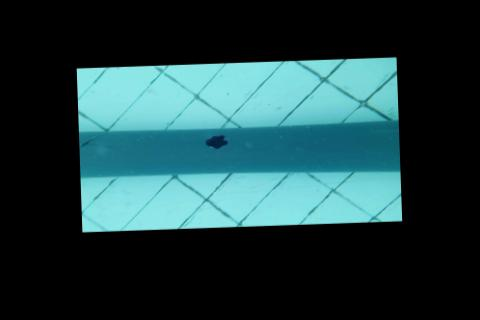kebocoran: (205, 132, 230, 148)
keretakan: (79, 133, 110, 148)
